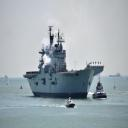Portanaves: (24, 25, 106, 101)
